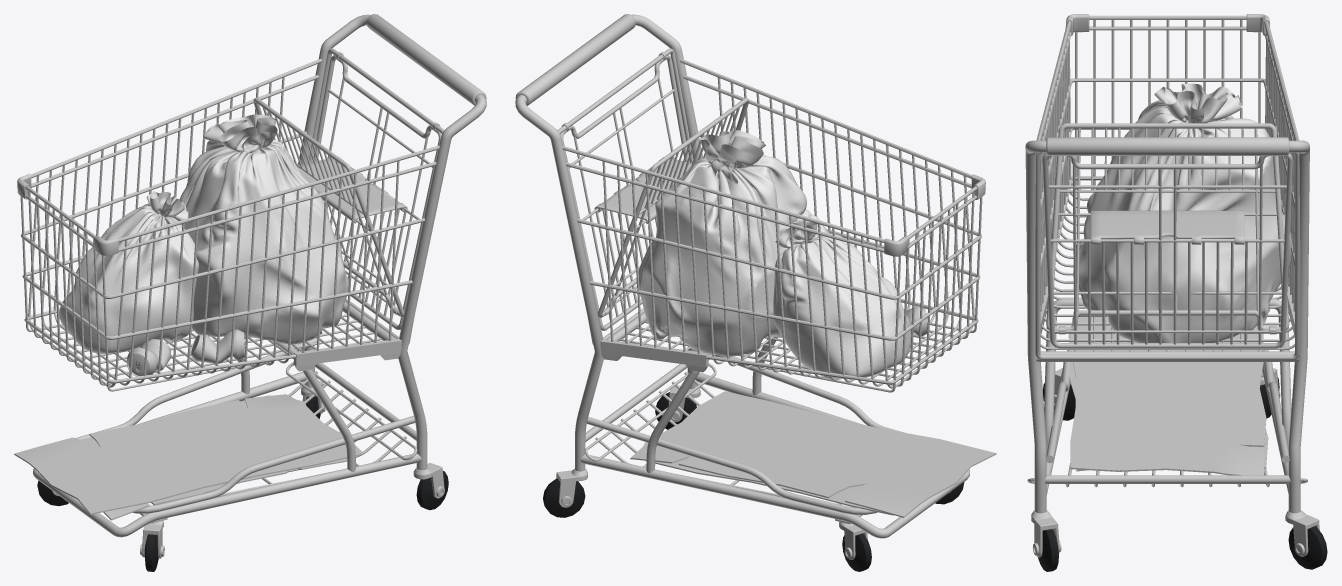
File: KB3D_CTS_ShoppingCart_A.fbx
The picture shows the model from 3 angles, left to right: view 1: azimuth 30°, elevation 25°; view 2: azimuth 150°, elevation 25°; view 3: azimuth 270°, elevation 25°; orthographic projection. The views are drawn at different scales.
Parts seen in each view (by area): view 1: KB3D_CTS_ShoppingCart_A_Main; view 2: KB3D_CTS_ShoppingCart_A_Main; view 3: KB3D_CTS_ShoppingCart_A_Main.
Part boxes in pixels (x1,y1,x2,y2): KB3D_CTS_ShoppingCart_A_Main: (14, 14, 486, 571); KB3D_CTS_ShoppingCart_A_Main: (515, 14, 996, 571); KB3D_CTS_ShoppingCart_A_Main: (1025, 14, 1327, 571).
Size of the model in its own units: 113 by 114 by 67.95.
